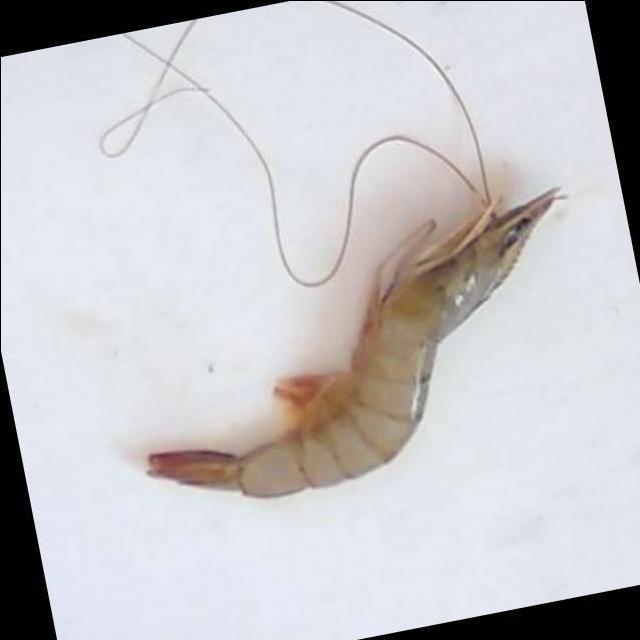shrimp: (145, 187, 560, 498)
